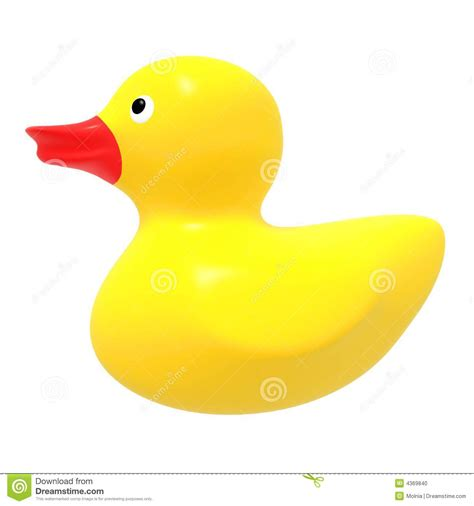???: (25, 55, 446, 416)
